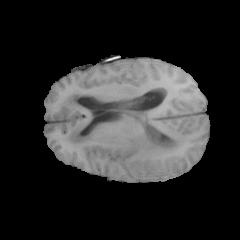glioma: (61, 91, 185, 158)
